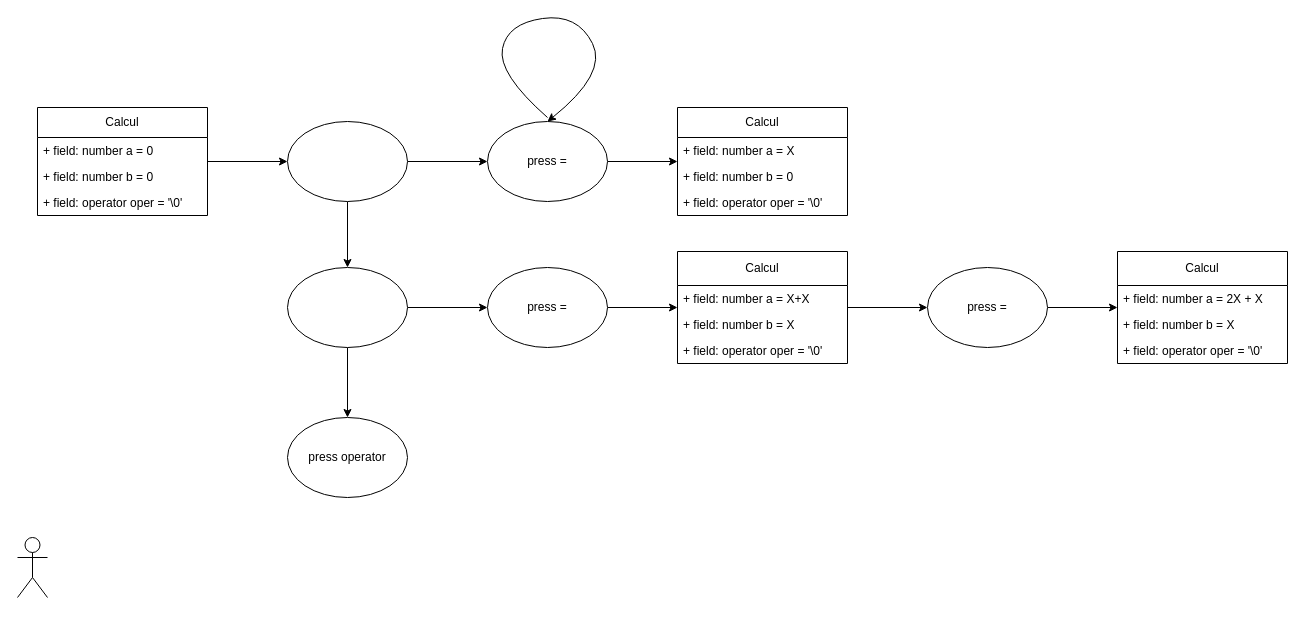
This 1305x636 diagram has some shape labels left out. Here are the shapes that lost their labels. From the top down, the centre of each, then its label:
At point (347, 161): "input x".
At point (347, 307): "press +".
At point (32, 567): "Actor".
